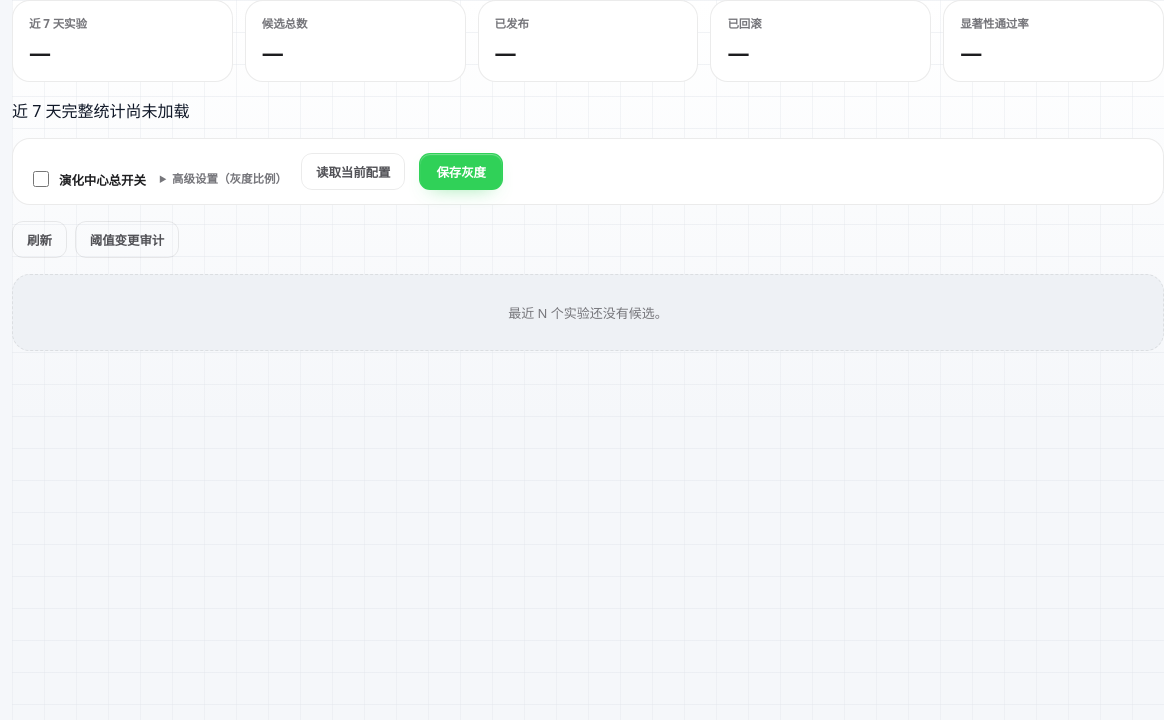
Test: EvolutionCenterTab › 总开关 PUT 失败时保持服务端原值并显示错误
Click the checkbox labelled "演化中心总开关" at [41, 179], box left=33, top=171, right=49, bottom=187
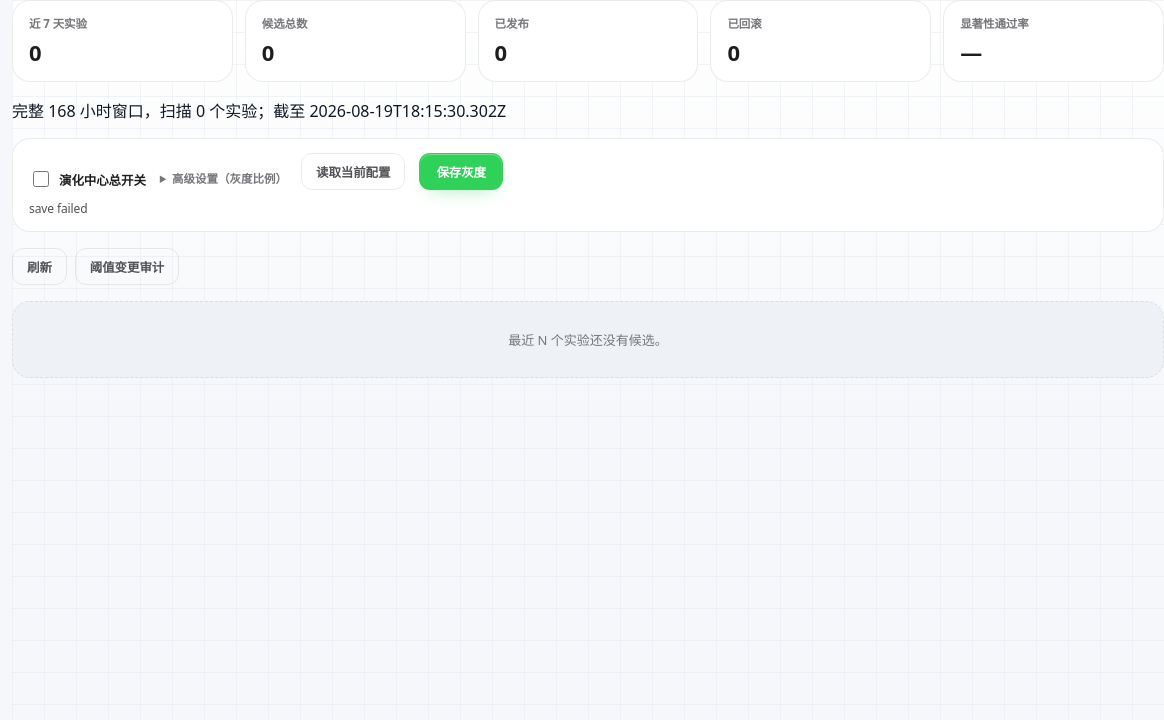
Result: the message with test id "runtime-flag-msg" reads "save failed" at left=29, top=200, right=88, bottom=217
